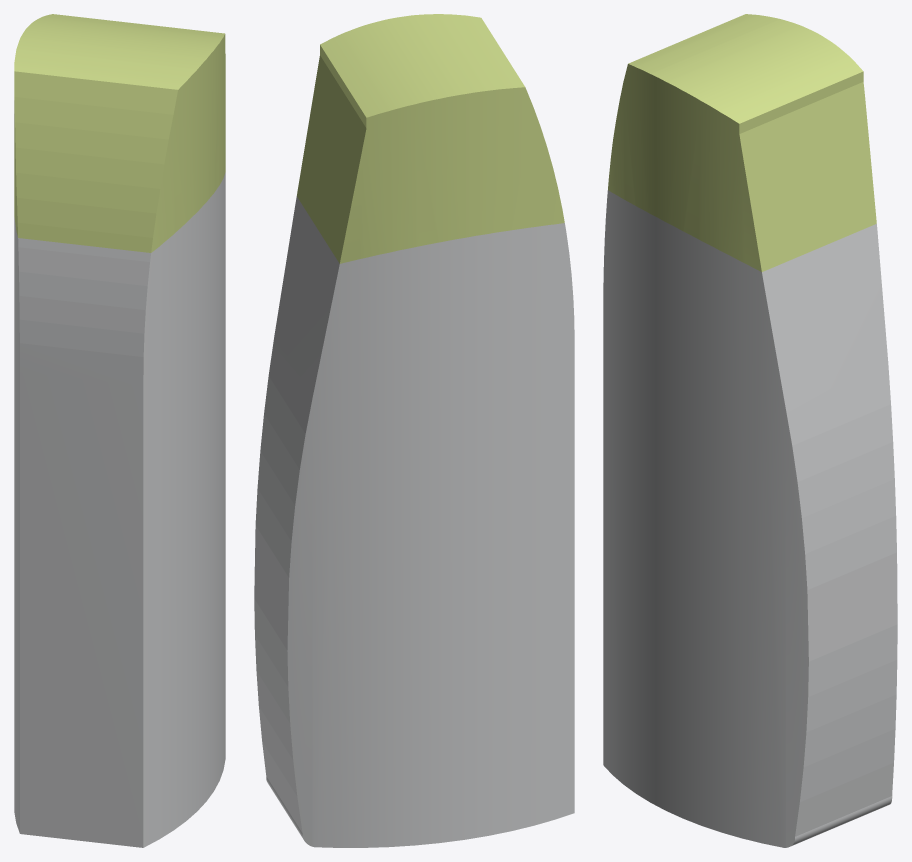
Rendered from shampoo.fbx.
3 views of the same model, side by side, from view 1: azimuth 30°, elevation 25°; view 2: azimuth 150°, elevation 25°; view 3: azimuth 270°, elevation 25° (orthographic). The views are drawn at different scales.
Parts seen in each view (by area): view 1: Group_001; view 2: Group_001; view 3: Group_001.
Boxes of the visible parts, left/top/right/bottom form: Group_001: left=14, top=14, right=225, bottom=847; Group_001: left=254, top=14, right=574, bottom=847; Group_001: left=603, top=14, right=897, bottom=847.
Bounding box in the file's own units: 0.6103 × 1.67 × 0.6103.
